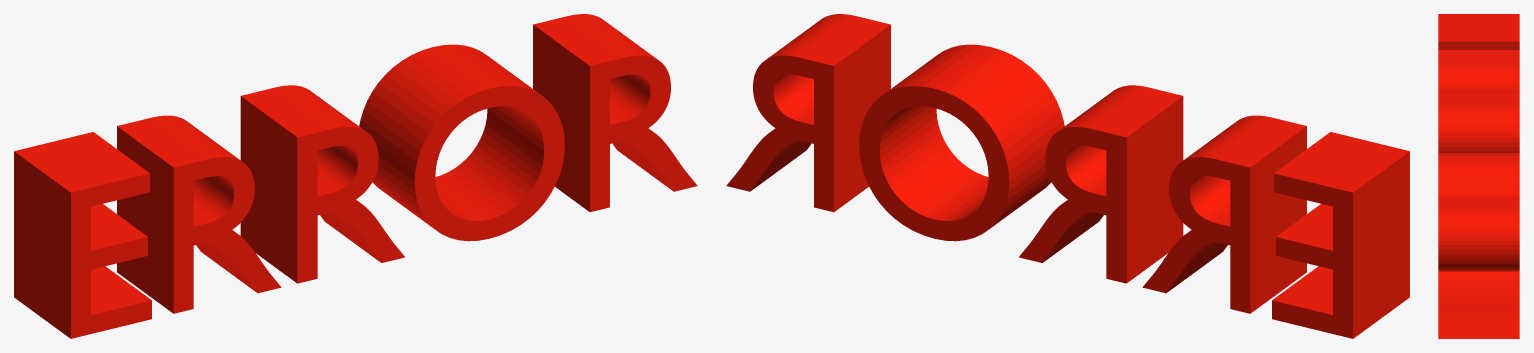
File: MeshError.glb
3 renders of one model, left to right at view 1: azimuth 30°, elevation 25°; view 2: azimuth 150°, elevation 25°; view 3: azimuth 270°, elevation 25°, orthographic. The views are drawn at different scales.
Parts seen in each view (by area): view 1: Text; view 2: Text; view 3: Text.
Part boxes in pixels (x1=…): Text: x1=14, y1=14, x2=697, y2=338; Text: x1=726, y1=14, x2=1409, y2=338; Text: x1=1438, y1=14, x2=1519, y2=338.
Size of the model in its own units: 3.06 by 0.7 by 0.4796.
Materials: 1 (1 with a texture image).
